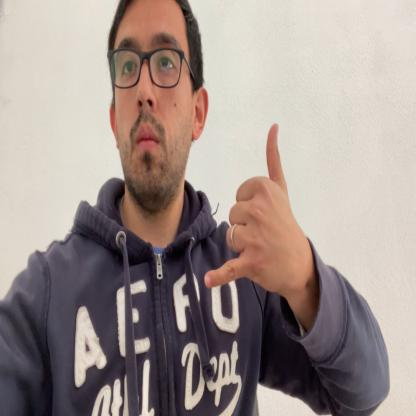Y: (204, 123, 301, 291)
